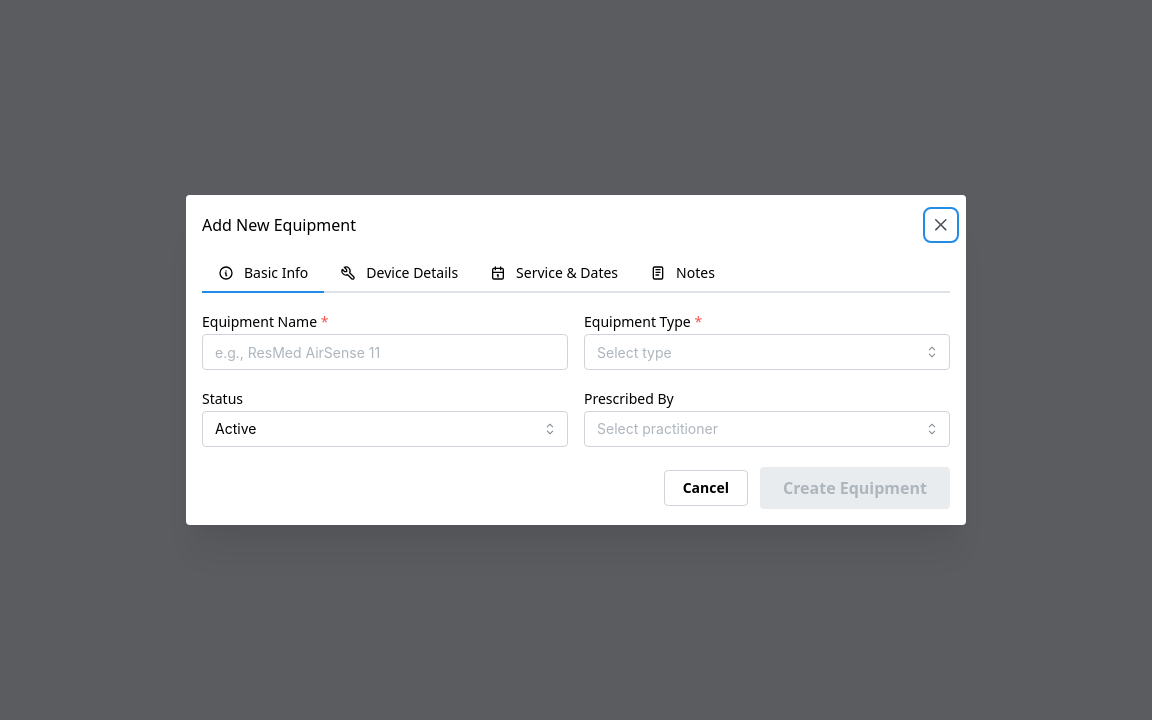
Test: EquipmentFormWrapper › Equipment Type Options › displays all equipment type options
The width and height of the screenshot is (1152, 720).
Note: Equipment Type is on the Basic Info tab (default)
Click the field with placeholder "Select type" at (767, 352), box [584, 334, 950, 370]
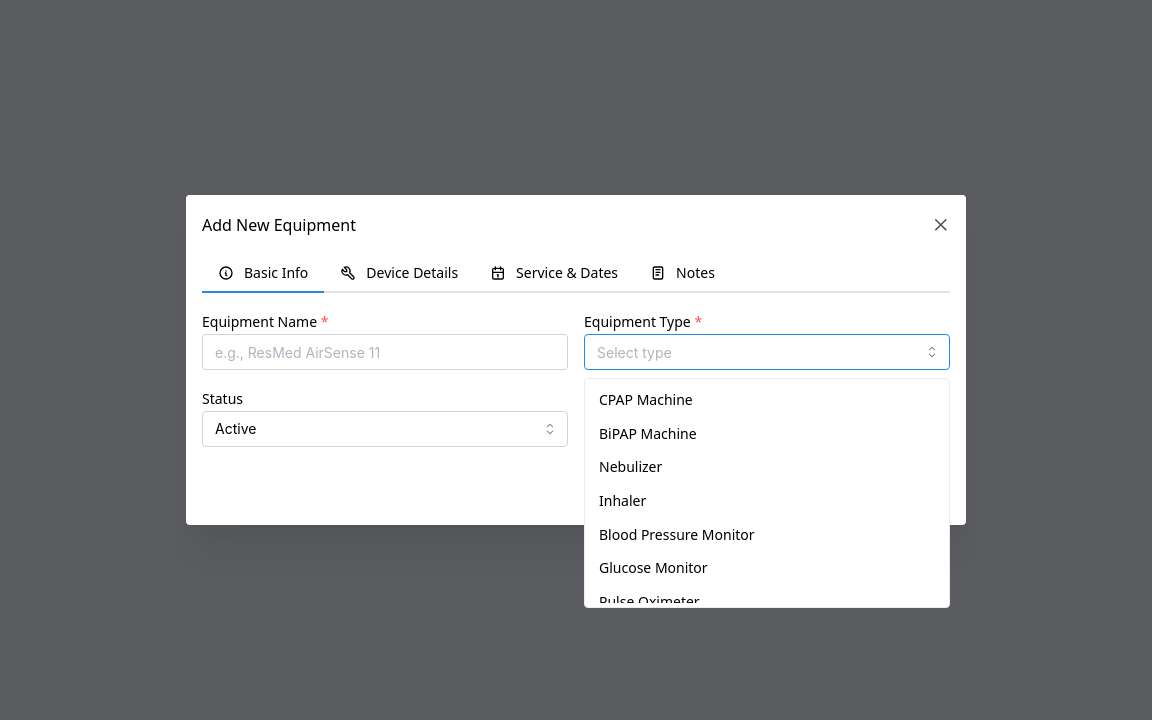
Result: the text "CPAP Machine" is shown at [599, 389, 693, 411]
Result: the text "BiPAP Machine" is shown at [599, 423, 697, 444]
Result: the text "Nebulizer" is shown at [599, 456, 662, 478]
